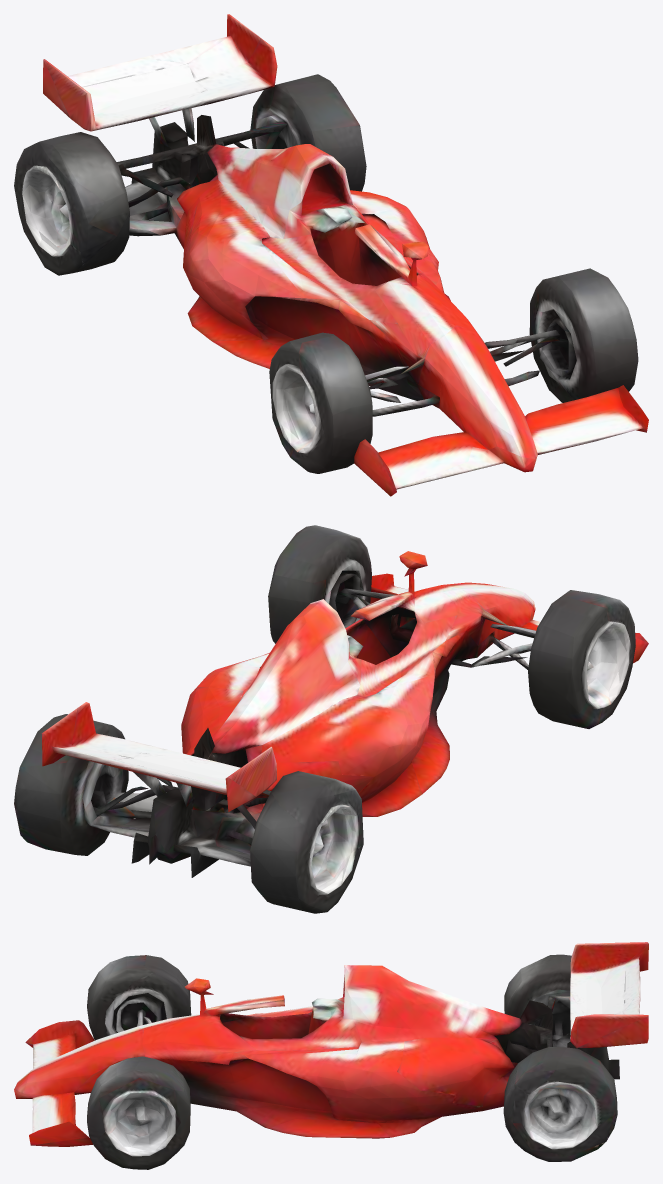
The model's file is formula.glb.
3 renders of one model, top to bottom at view 1: azimuth 30°, elevation 25°; view 2: azimuth 150°, elevation 25°; view 3: azimuth 270°, elevation 25°, orthographic. The views are drawn at different scales.
Visible parts, largest first — view 1: model; view 2: model; view 3: model.
Boxes of the visible parts, <box> form: model: <box>14,14,648,496</box>; model: <box>14,525,648,913</box>; model: <box>14,942,648,1169</box>.
Bounding box in the file's own units: 1.34 × 0.7416 × 2.9.
1 material, 1 textured.
